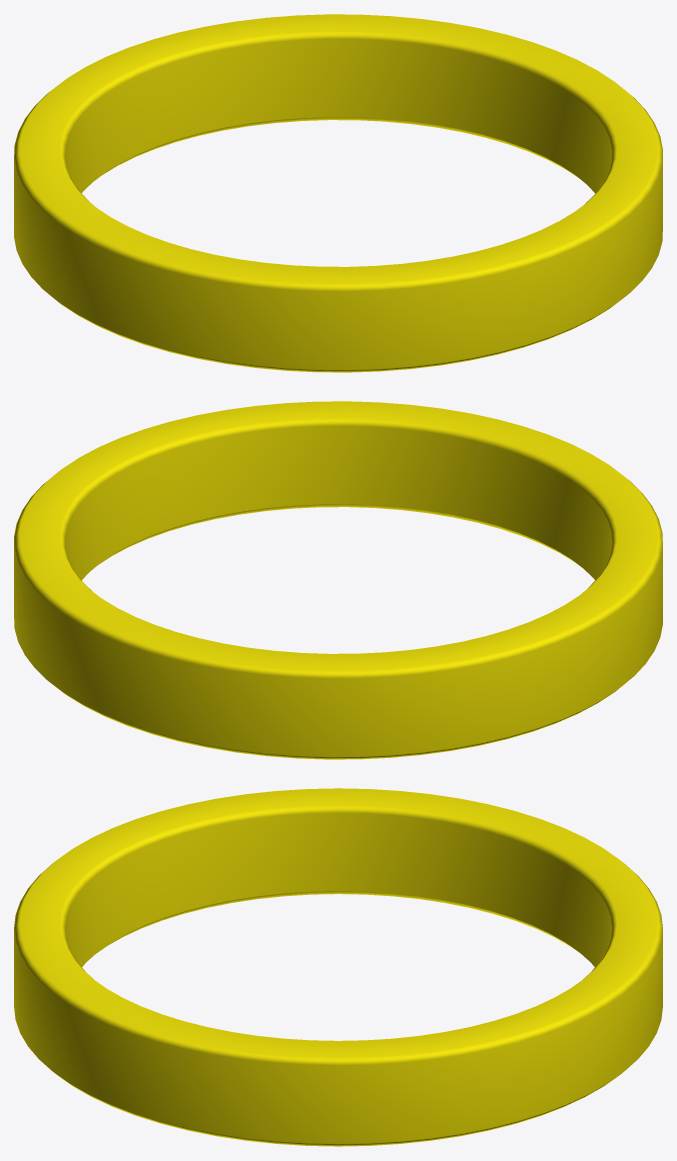
3 renders of one model, top to bottom at view 1: azimuth 30°, elevation 25°; view 2: azimuth 150°, elevation 25°; view 3: azimuth 270°, elevation 25°, orthographic.
Visible parts, largest first — view 1: seal_body; view 2: seal_body; view 3: seal_body.
Boxes of the visible parts, bbox=[...] form: seal_body: bbox=[14, 14, 662, 372]; seal_body: bbox=[14, 401, 662, 759]; seal_body: bbox=[14, 788, 662, 1146].
Bounding box in the file's own units: 0.063 × 0.00952 × 0.063.
